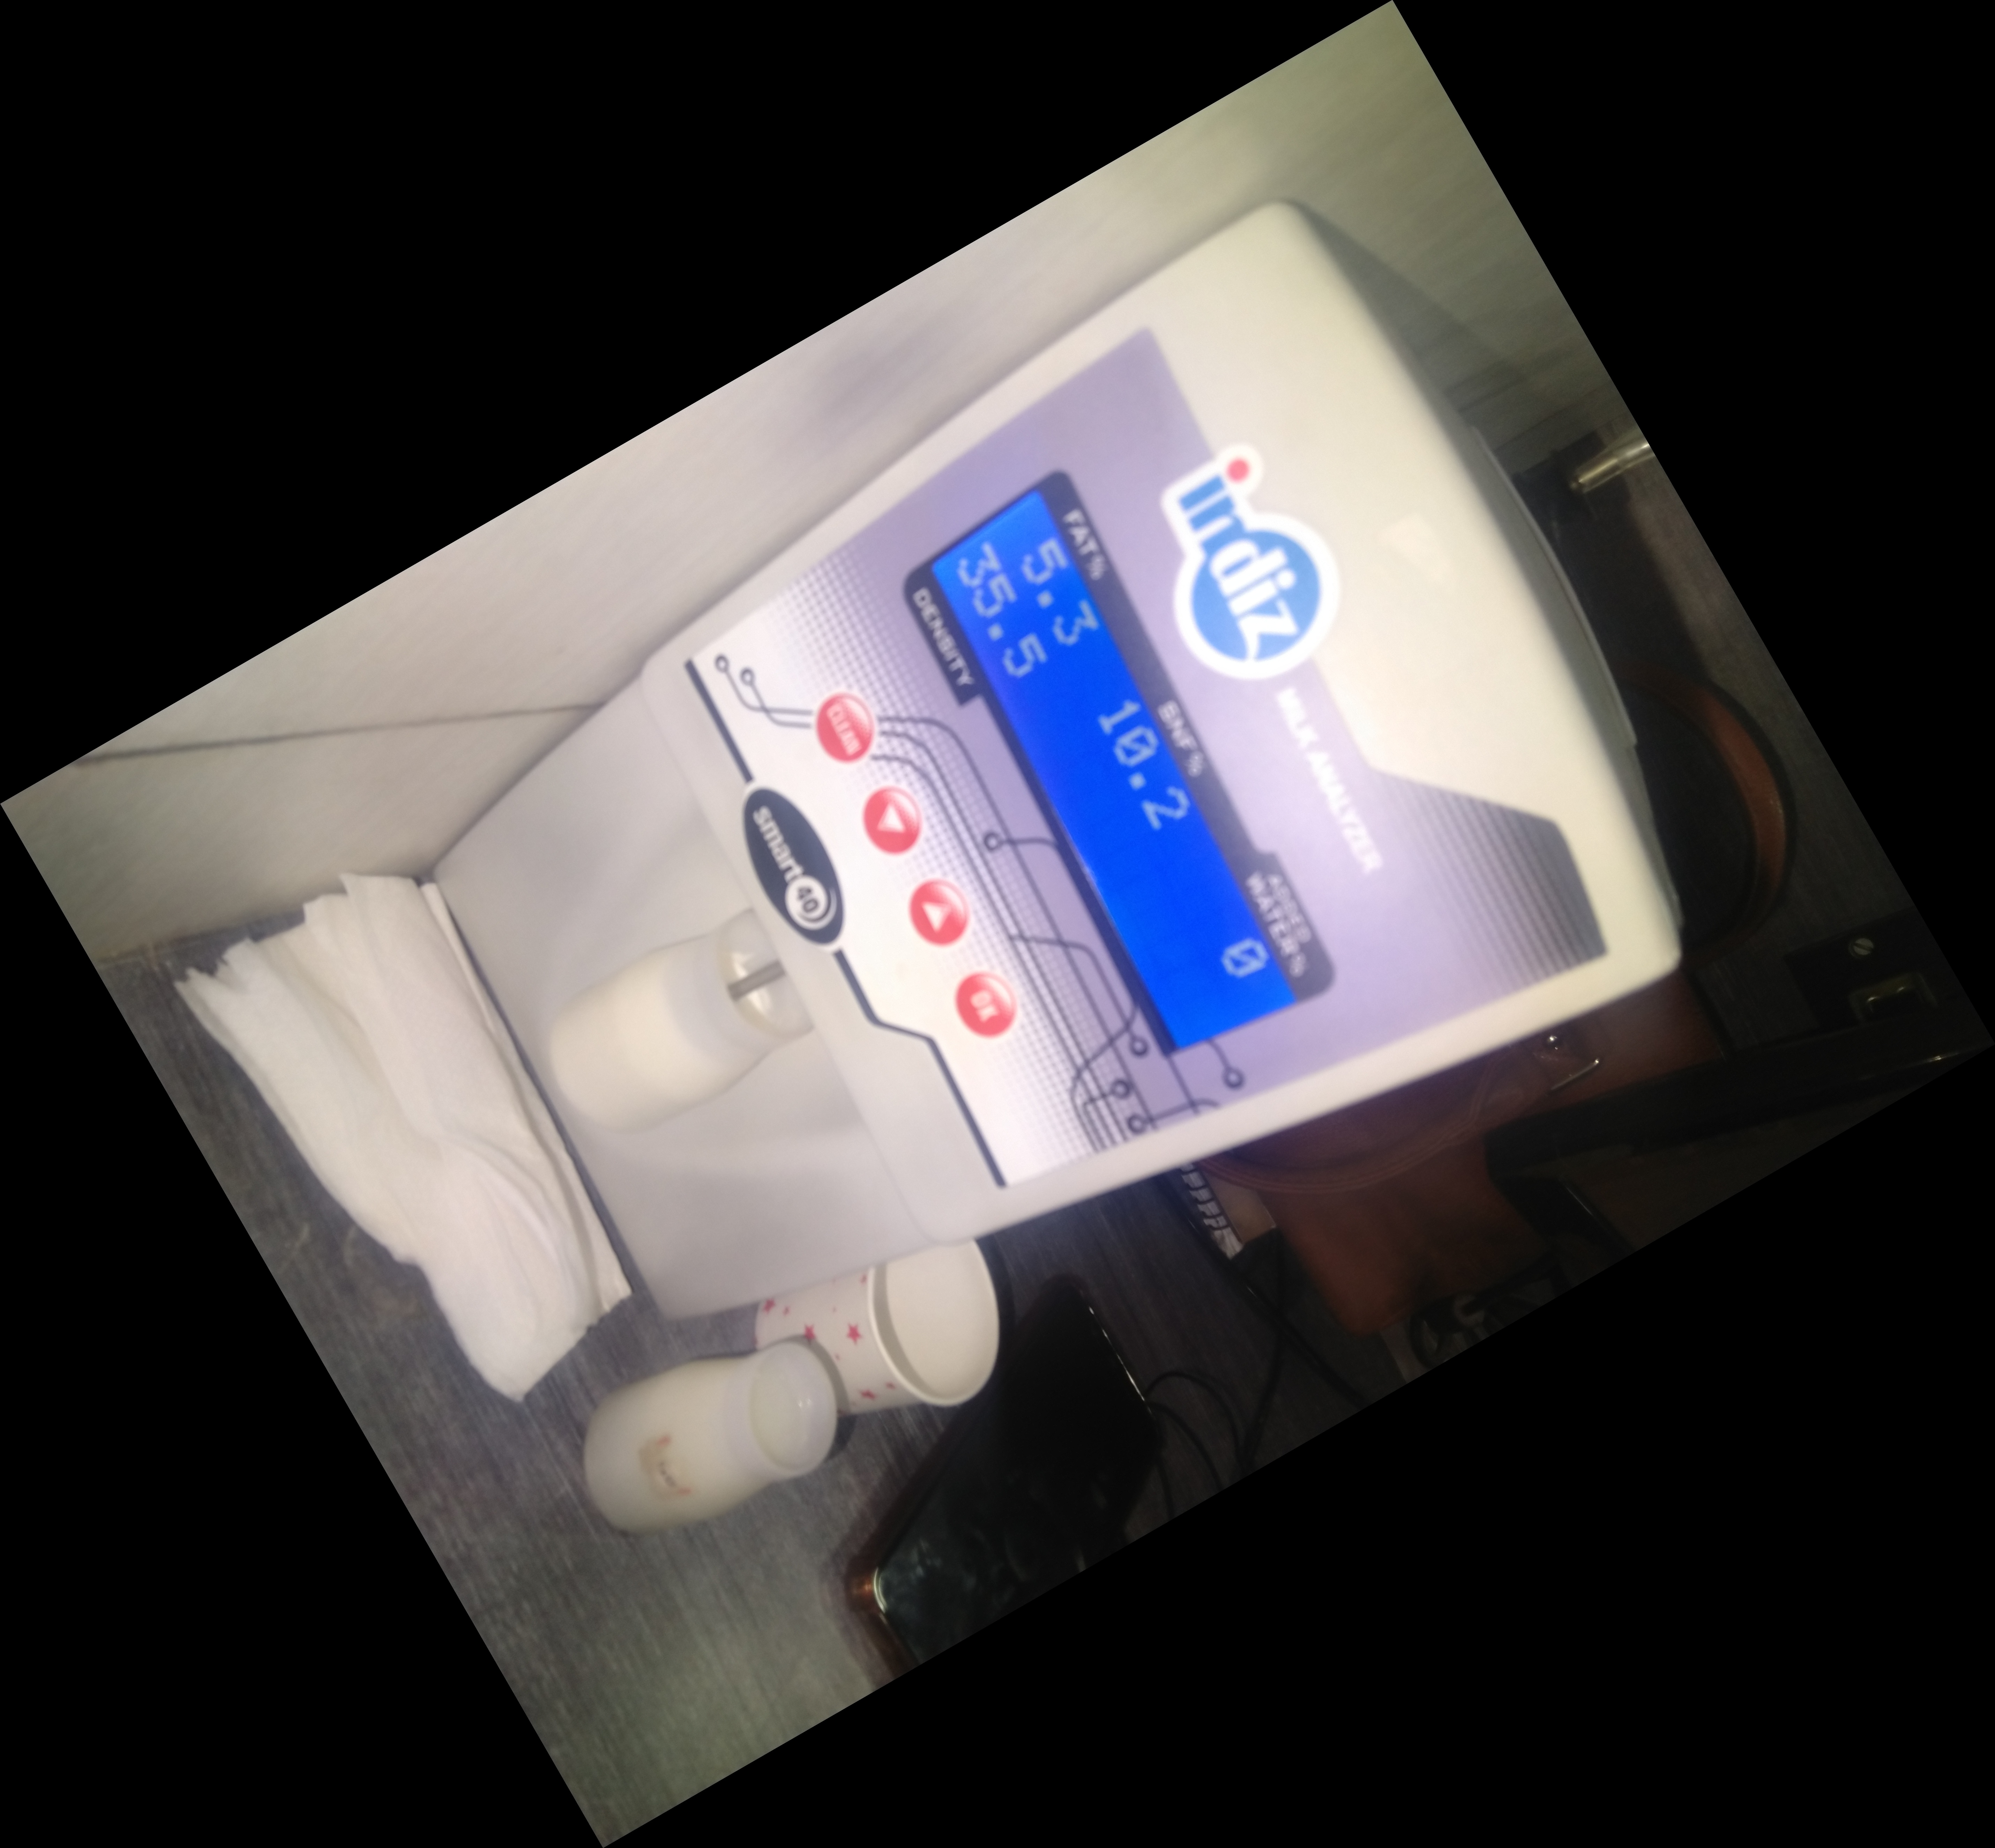lcd: (897, 468, 1345, 1074)
